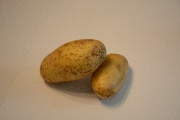potato: (38, 39, 107, 82), (92, 50, 129, 97)
